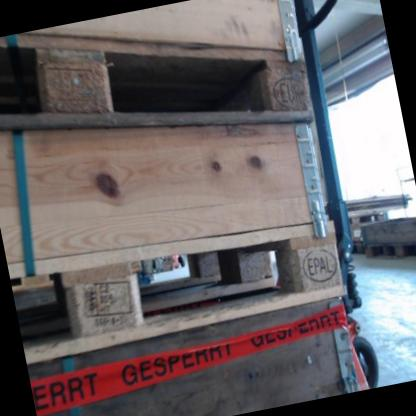pallet: (6, 195, 349, 358), (363, 234, 416, 270), (347, 209, 387, 227)
pallet_truck: (284, 0, 416, 390), (170, 252, 191, 271)
